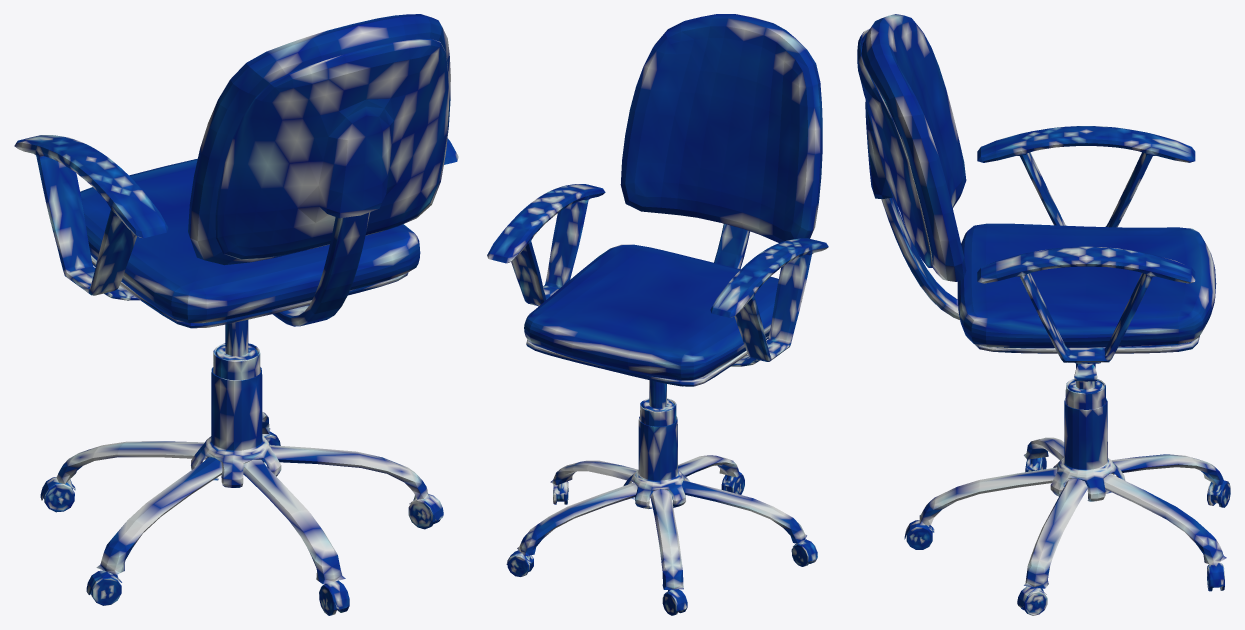
The model's file is chair5_final400.obj.
3 views of the same model, side by side, from view 1: azimuth 30°, elevation 25°; view 2: azimuth 150°, elevation 25°; view 3: azimuth 270°, elevation 25° (orthographic). The views are drawn at different scales.
Bounding box in the file's own units: 0.7976 × 1.33 × 0.8716.
